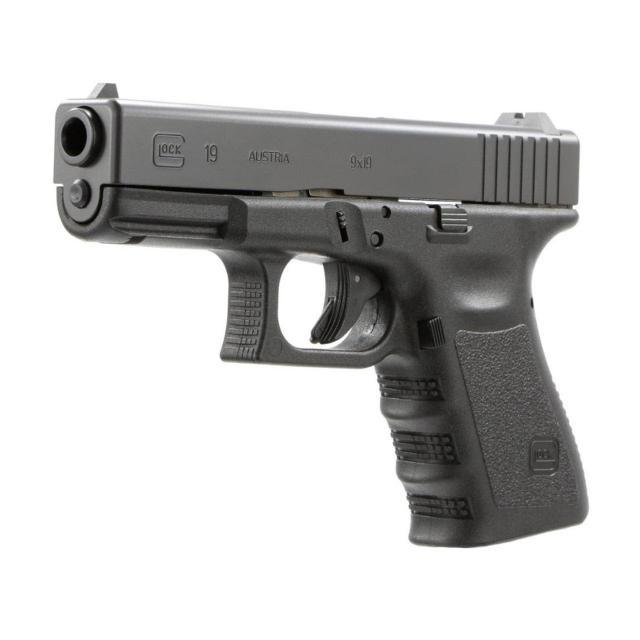pistol: (46, 69, 592, 555)
